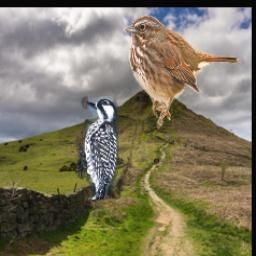Sparrow: (125, 16, 240, 130)
Woodpecker: (75, 95, 118, 201)
